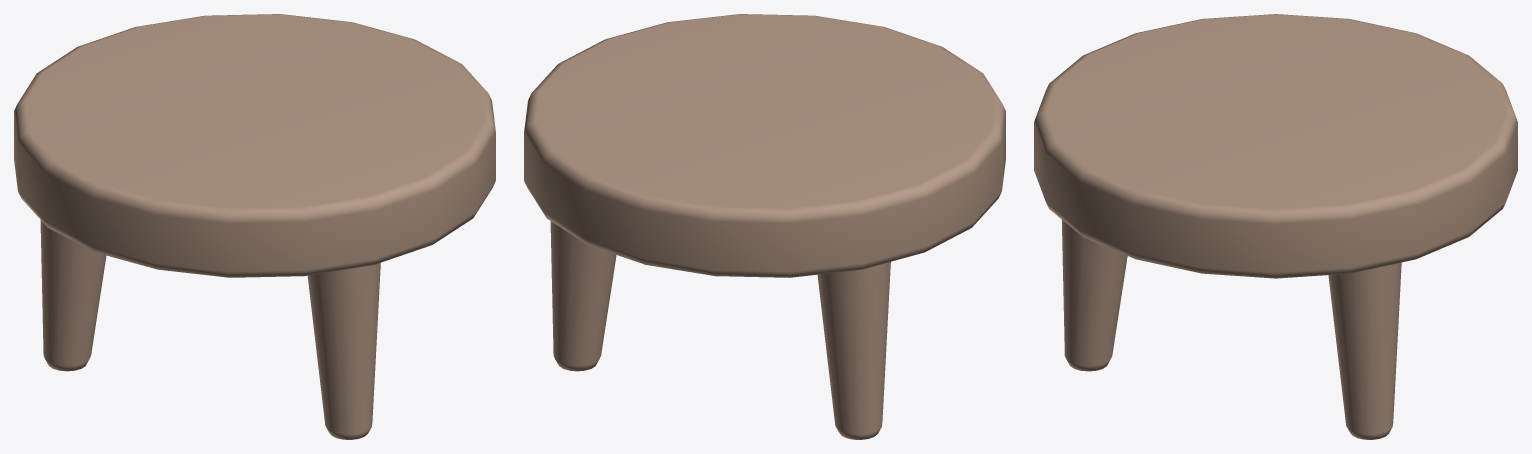
Rendered from Table_11.glb.
3 views of the same model, side by side, from view 1: azimuth 30°, elevation 25°; view 2: azimuth 150°, elevation 25°; view 3: azimuth 270°, elevation 25° (orthographic).
Visible parts, largest first — view 1: Table_11; view 2: Table_11; view 3: Table_11.
Part boxes in pixels (bbox=[...]): Table_11: bbox=[14, 14, 495, 439]; Table_11: bbox=[524, 14, 1005, 439]; Table_11: bbox=[1034, 14, 1517, 439].
Bounding box in the file's own units: 0.4711 × 0.273 × 0.4711.
1 material, 1 textured.
